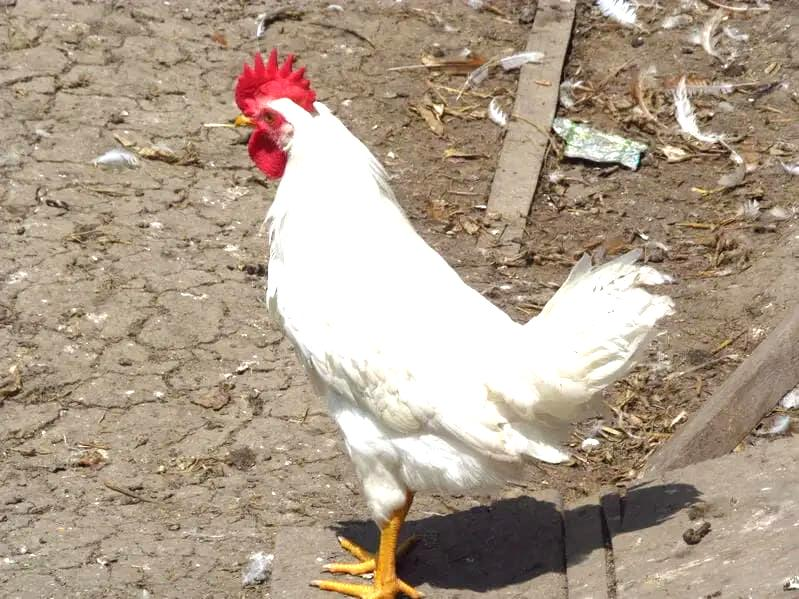Healthy: (221, 44, 678, 596)
